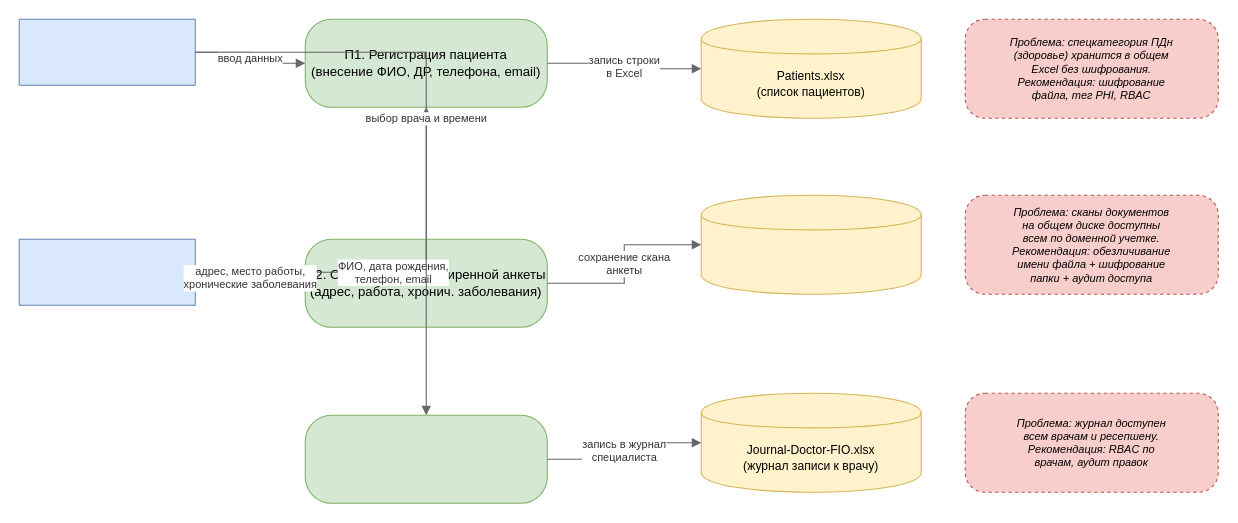
This 1238x523 diagram has some shape labels left out. The centre of each missing label's shape, as x and y in pixels:
Администратор ресепшена: pixel 106 51
П3. Запись пациента к специалисту: pixel 425 458
Папка Pacient-FIO-BD (сканы паспорта, анкеты, JPG/PDF): pixel 810 244
Пациент: pixel 106 271
